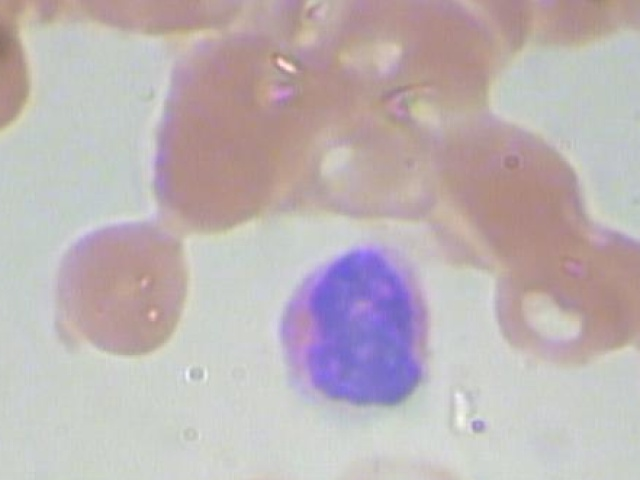RBC: (33, 204, 215, 361), (475, 250, 638, 384), (119, 98, 282, 232), (296, 98, 459, 232), (322, 433, 485, 480), (0, 8, 51, 142), (67, 0, 207, 39), (602, 0, 640, 69)
WBC: (260, 235, 446, 432)
